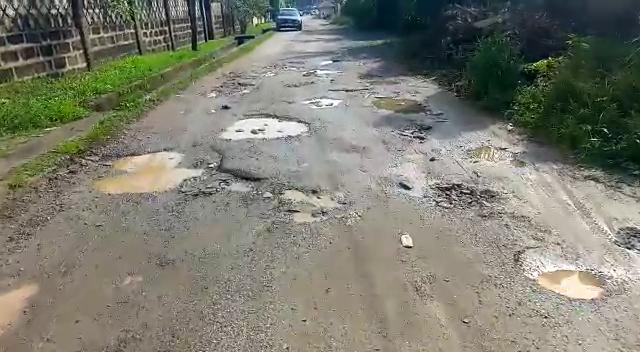pothole: (81, 145, 221, 195), (527, 259, 612, 302), (217, 112, 313, 141), (279, 187, 351, 224), (431, 182, 503, 214), (463, 145, 527, 168), (371, 97, 431, 116), (613, 224, 639, 260), (305, 94, 348, 106), (326, 86, 375, 93)
